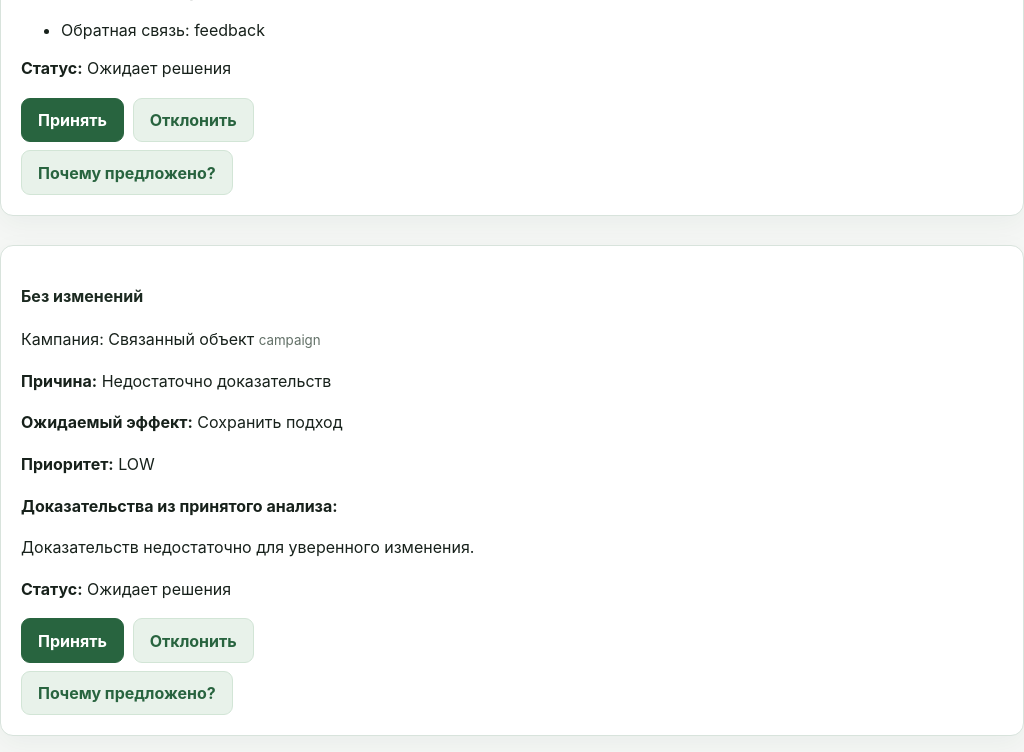
rejects one action without approving others
(page scrolled)
Step 1. Click the button "Отклонить" below "Сохранить подход" → (193, 641), box [133,618,254,663]
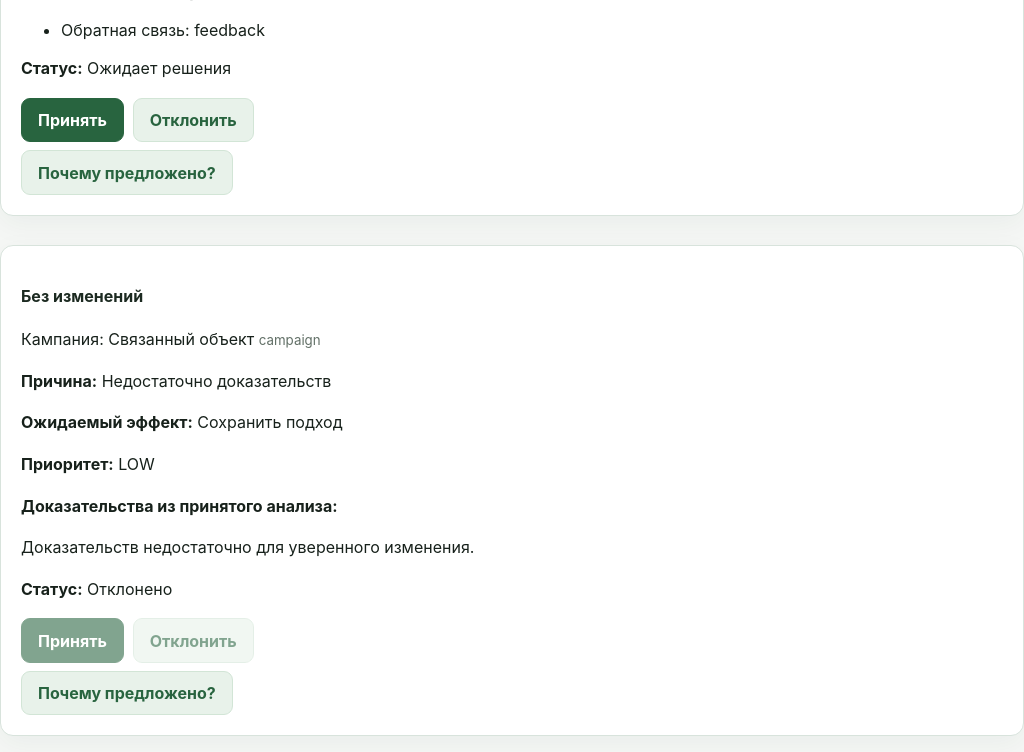
Expected: the text "Статус: Отклонено" is shown, [21,579,172,599]
